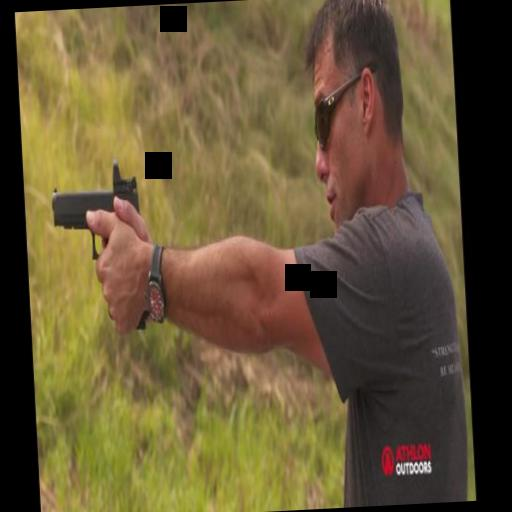Handgun: (45, 166, 152, 334)
